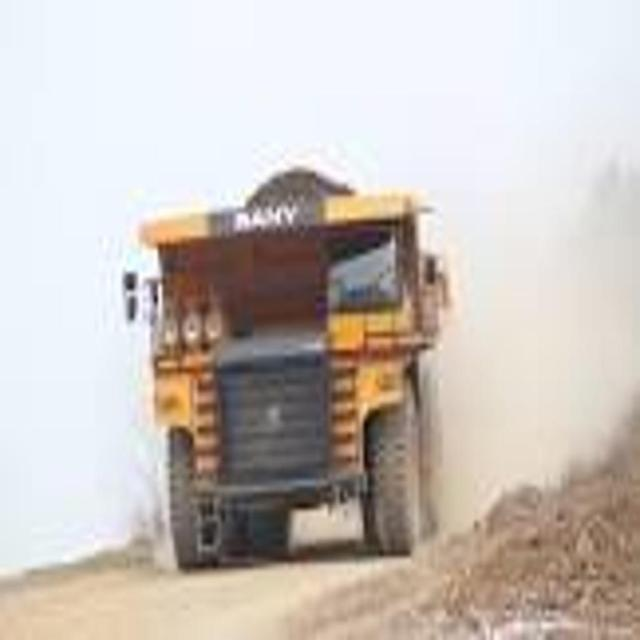dump_truck: (120, 154, 458, 578)
